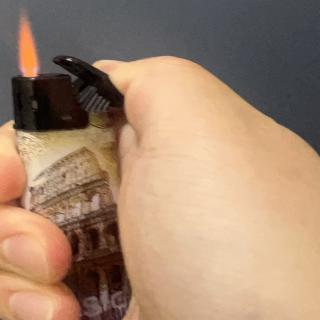fire: (13, 11, 44, 78)
